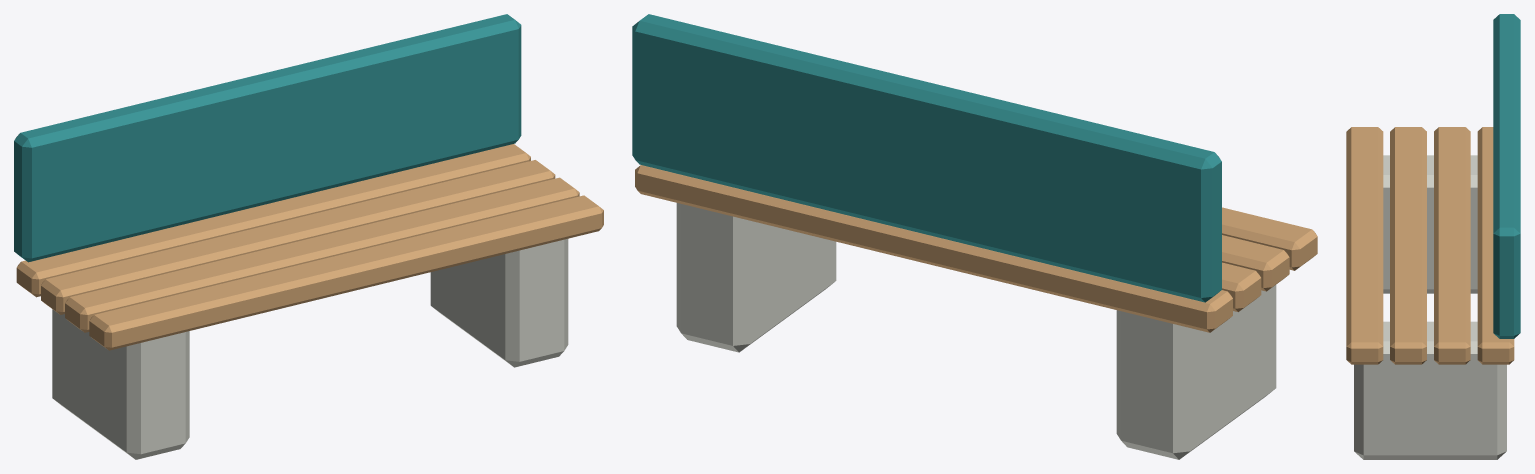
Rendered from Bench_Concrete_Modern.glb.
3 renders of one model, left to right at view 1: azimuth 30°, elevation 25°; view 2: azimuth 150°, elevation 25°; view 3: azimuth 270°, elevation 25°, orthographic. The views are drawn at different scales.
Parts seen in each view (by area): view 1: Bench_Concrete_Modern; view 2: Bench_Concrete_Modern; view 3: Bench_Concrete_Modern.
Boxes of the visible parts, <box> form: Bench_Concrete_Modern: <box>14,14,603,459</box>; Bench_Concrete_Modern: <box>632,14,1317,459</box>; Bench_Concrete_Modern: <box>1346,14,1520,459</box>.
Bounding box in the file's own units: 1.9 × 0.995 × 0.6375.
